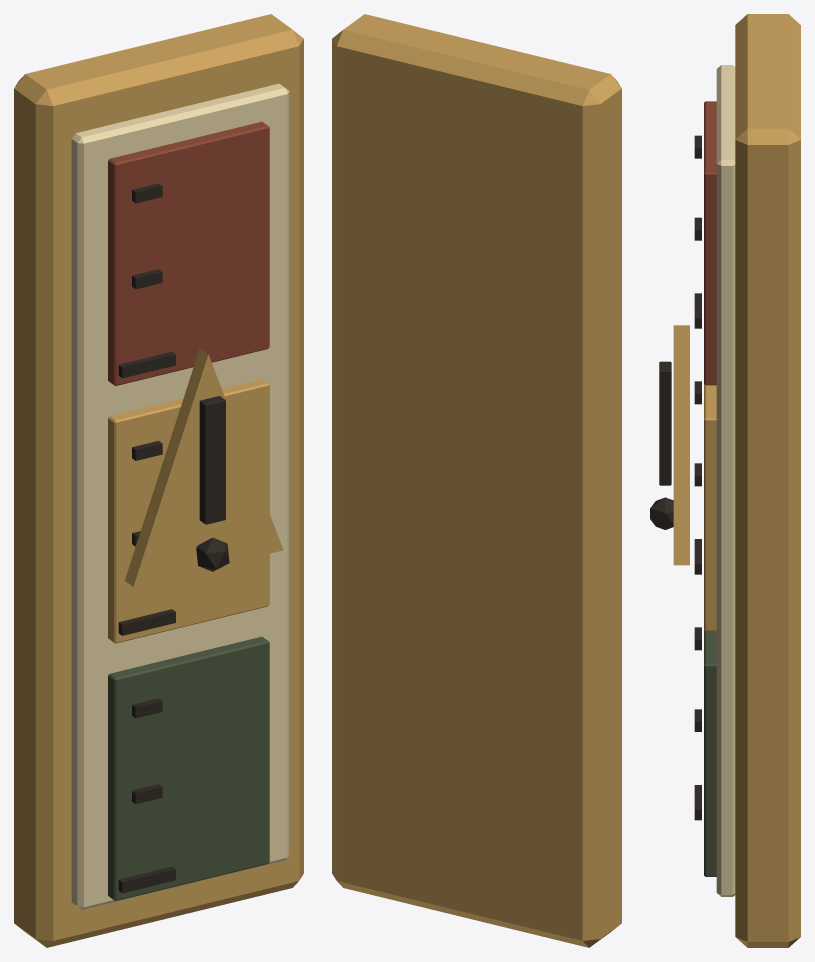
Rendered from indicator_board_04.glb.
3 views of the same model, side by side, from view 1: azimuth 30°, elevation 25°; view 2: azimuth 150°, elevation 25°; view 3: azimuth 270°, elevation 25° (orthographic). The views are drawn at different scales.
Parts seen in each view (by area): view 1: Frame, Face, Level_0, Level_2, Level_1, Warning_triangle, Exclamation, Dot, Graduation_03, Graduation_00, Graduation_06; view 2: Frame; view 3: Frame, Face, Warning_triangle, Level_2, Level_1, Level_0, Exclamation, Dot.
Part boxes in pixels (x1=…): Frame: x1=14, y1=14, x2=303, y2=947; Face: x1=71, y1=83, x2=289, y2=909; Level_0: x1=108, y1=636, x2=269, y2=900; Level_2: x1=108, y1=121, x2=269, y2=385; Level_1: x1=108, y1=379, x2=269, y2=643; Warning_triangle: x1=125, y1=348, x2=283, y2=586; Exclamation: x1=199, y1=396, x2=225, y2=524; Dot: x1=196, y1=537, x2=229, y2=571; Graduation_03: x1=118, y1=609, x2=175, y2=635; Graduation_00: x1=118, y1=866, x2=175, y2=893; Graduation_06: x1=118, y1=351, x2=175, y2=378; Frame: x1=332, y1=14, x2=621, y2=947; Frame: x1=735, y1=14, x2=800, y2=947; Face: x1=716, y1=65, x2=735, y2=896; Warning_triangle: x1=673, y1=325, x2=689, y2=565; Level_2: x1=704, y1=101, x2=716, y2=385; Level_1: x1=704, y1=384, x2=716, y2=631; Level_0: x1=704, y1=630, x2=716, y2=876; Exclamation: x1=659, y1=361, x2=671, y2=485; Dot: x1=650, y1=497, x2=673, y2=529.
Bounding box in the file's own units: 0.36 × 1.1 × 0.1837.
